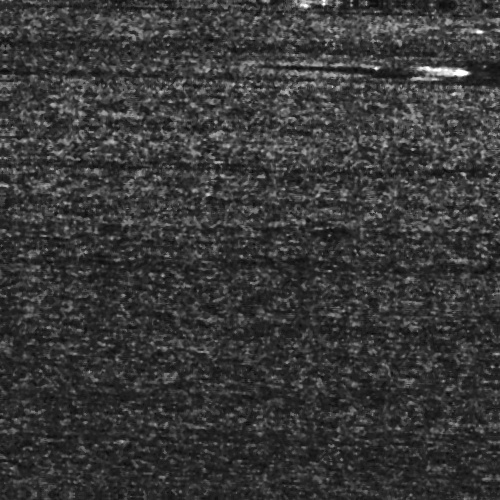object: (406, 59, 479, 66), (406, 69, 437, 72)
shadow: (288, 59, 443, 66), (343, 69, 421, 72)
